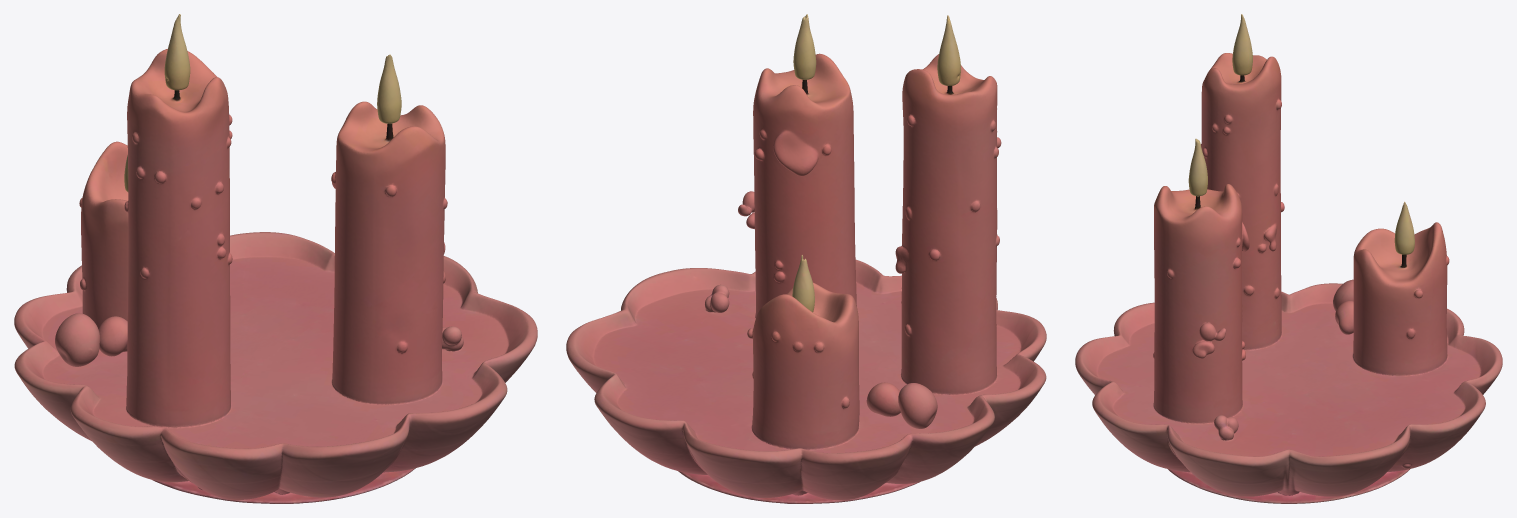
File: detailed_realistic_model_floatingcandles_11.glb
3 views of the same model, side by side, from view 1: azimuth 30°, elevation 25°; view 2: azimuth 150°, elevation 25°; view 3: azimuth 270°, elevation 25° (orthographic). The views are drawn at different scales.
Parts seen in each view (by area): view 1: tripo_node_4eb3a5ad-b4c0-494e-85c2-52b6a03d84d7; view 2: tripo_node_4eb3a5ad-b4c0-494e-85c2-52b6a03d84d7; view 3: tripo_node_4eb3a5ad-b4c0-494e-85c2-52b6a03d84d7.
Boxes of the visible parts, x1,y1,x2,y2 form: tripo_node_4eb3a5ad-b4c0-494e-85c2-52b6a03d84d7: (14, 14, 537, 503); tripo_node_4eb3a5ad-b4c0-494e-85c2-52b6a03d84d7: (566, 14, 1046, 503); tripo_node_4eb3a5ad-b4c0-494e-85c2-52b6a03d84d7: (1075, 14, 1502, 503).
Bounding box in the file's own units: 0.9764 × 0.998 × 1.
1 material, 1 textured.
